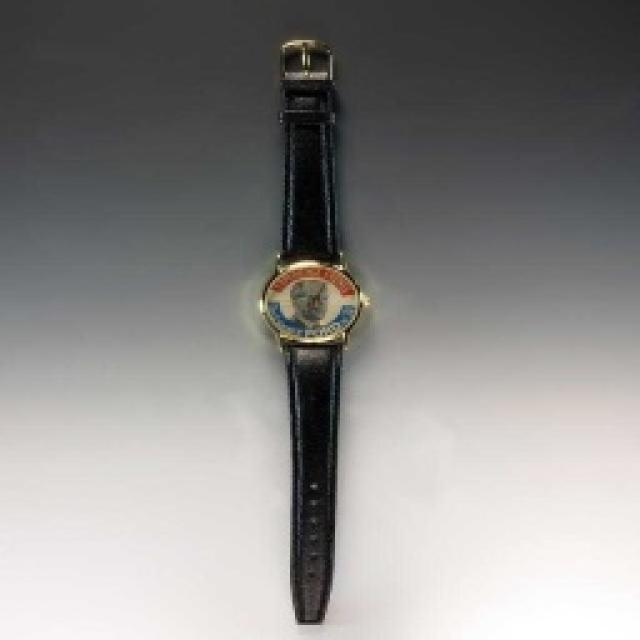saat: (237, 25, 406, 629)
